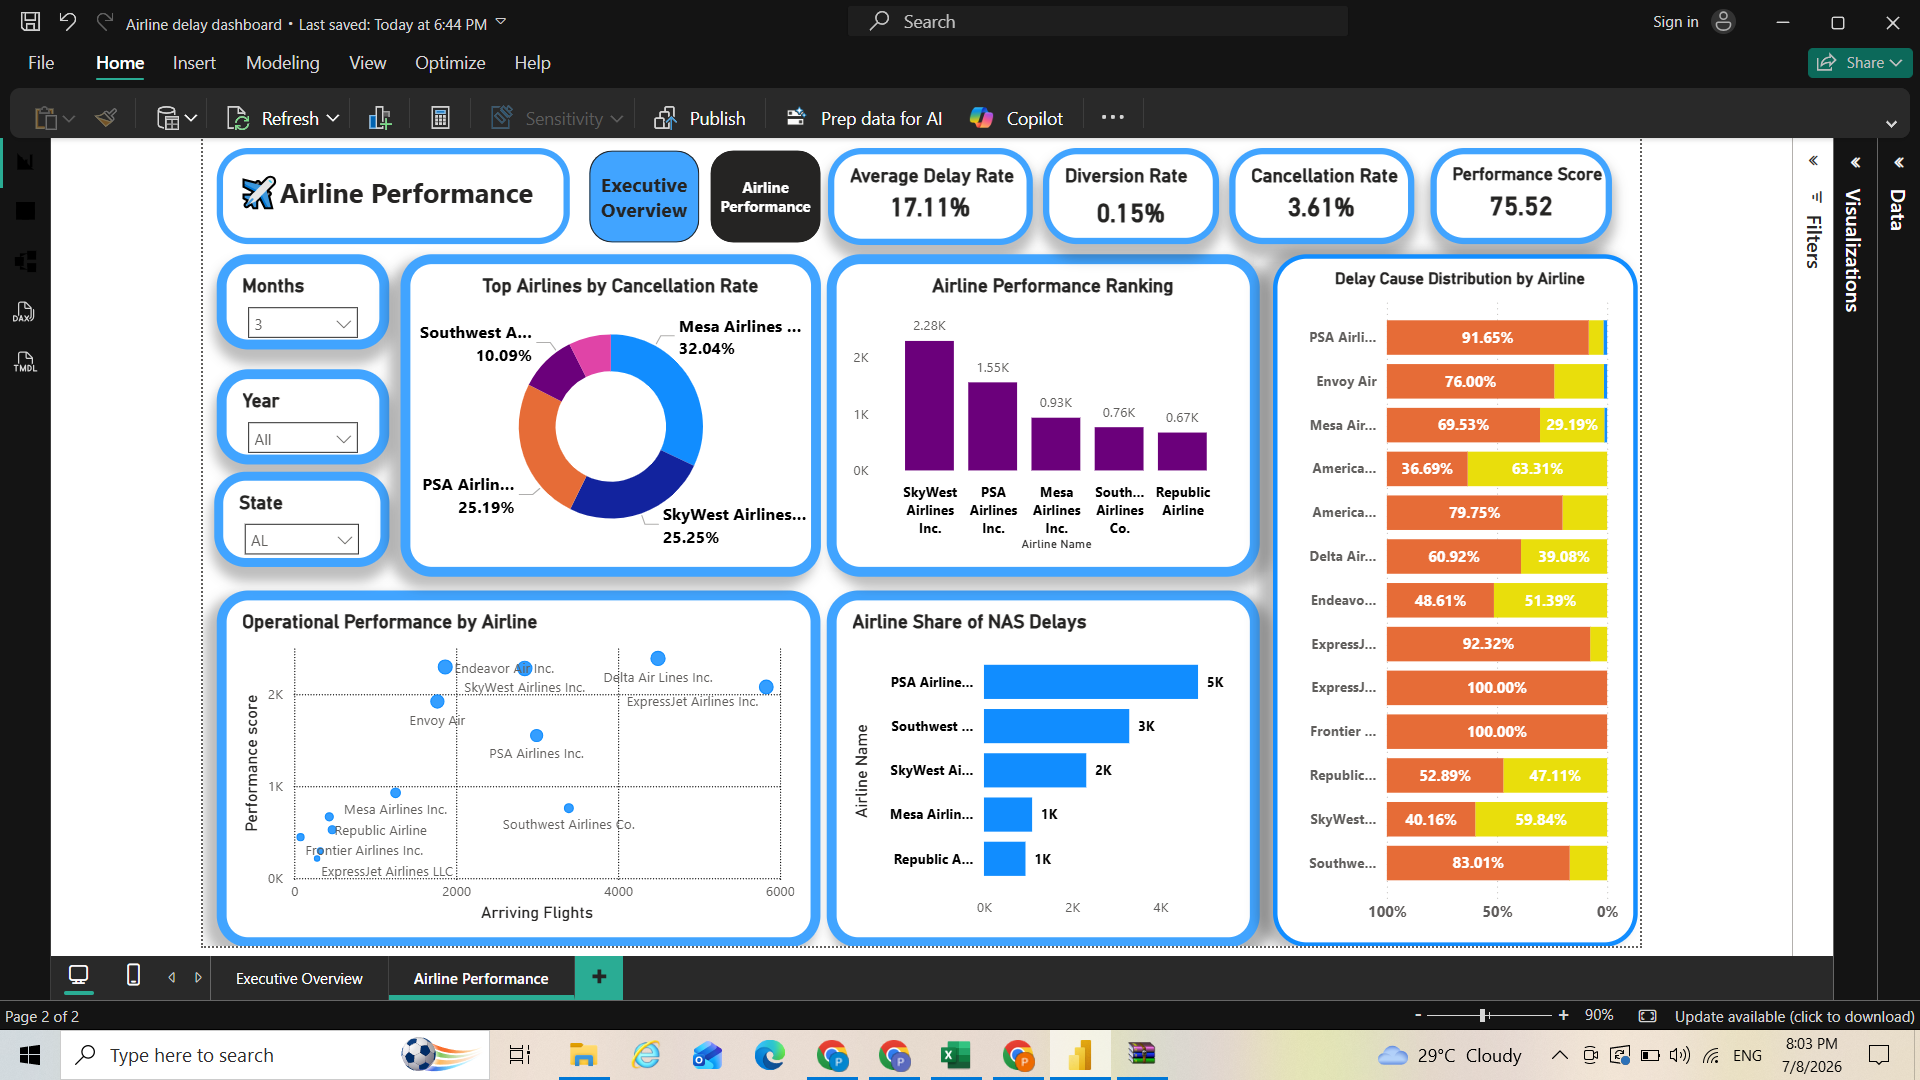

This screenshot's page, from the dashboard's own definition file:
{"tool":"powerbi","page":{"name":"Airline Performance","canvas":[1280,720],"ordinal":1},"visuals":[{"type":"scatterChart","title":"Operational Performance by Airline","fields":{"Category":["Airline_Delay_Cause_analysis.Airline Name"],"X":["Sum(Airline_Delay_Cause_analysis.number_of_arriving_flights)"],"Size":["CountNonNull(Airline_Delay_Cause_analysis.Airline Name)"],"Y":["Sum(Airline_Delay_Cause_analysis.performance_score)"],"Series":["Airline_Delay_Cause_analysis.month"]},"box":[12.3,402.5,537.4,317.8],"z":0},{"type":"slicer","title":"Months","fields":{"Values":["Airline_Delay_Cause_analysis.month"]},"box":[12.3,103.1,153.4,84.7],"z":1000},{"type":"slicer","title":"Year","fields":{"Values":["Airline_Delay_Cause_analysis.year"]},"box":[12.3,206.1,153.4,84.7],"z":2000},{"type":"textbox","box":[12.3,8.6,314.1,85.9],"z":3000},{"type":"slicer","title":"State","fields":{"Values":["Airline_Delay_Cause_analysis. state "]},"box":[9.8,296.9,155.8,84.7],"z":4000},{"type":"clusteredBarChart","title":"Airline Share of NAS Delays","fields":{"Category":["Airline_Delay_Cause_analysis.Airline Name"],"Y":["Sum(Airline_Delay_Cause_analysis.delay_attributed_to_the_nas)"]},"box":[555.8,402.5,385.3,317.8],"z":5000},{"type":"kpi","title":"Average Delay Rate ","fields":{"Indicator":["select","Airline_Delay_Cause_analysis.Average Delay Rate"],"TrendLine":["Airline_Delay_Cause_analysis.month"]},"box":[556.4,8.6,182.2,86.2],"z":6000},{"type":"kpi","title":"Performance Score","fields":{"Indicator":["select","Airline_Delay_Cause_analysis.Carrier Performance Score"],"TrendLine":["Airline_Delay_Cause_analysis.month"]},"box":[1093.3,8.6,162,85.9],"z":7000},{"type":"donutChart","title":"Top Airlines by Cancellation Rate","fields":{"Category":["Airline_Delay_Cause_analysis.Airline Name"],"Y":["Sum(Airline_Delay_Cause_analysis.cancellation_rate)"]},"box":[175.5,103.1,374.2,287.1],"z":8000},{"type":"clusteredColumnChart","title":"Airline Performance Ranking","fields":{"Category":["Airline_Delay_Cause_analysis.Airline Name"],"Y":["Sum(Airline_Delay_Cause_analysis.performance_score)"]},"box":[555.8,103.1,385.3,287.1],"z":9000},{"type":"kpi","title":"Diversion Rate","fields":{"Indicator":["Airline_Delay_Cause_analysis.Diversion Rate"],"TrendLine":["Airline_Delay_Cause_analysis.month"]},"box":[748.5,8.6,157.1,85.9],"z":10000},{"type":"kpi","title":"Cancellation Rate","fields":{"Indicator":["select","Airline_Delay_Cause_analysis.Cancellation Rate"],"TrendLine":["Airline_Delay_Cause_analysis.month"]},"box":[914.1,8.6,164.4,85.9],"z":11000},{"type":"hundredPercentStackedBarChart","title":"Delay Cause Distribution by Airline","fields":{"Y":["Sum(Airline_Delay_Cause_analysis.security_delay)","Sum(Airline_Delay_Cause_analysis.weather_delay)","Sum(Airline_Delay_Cause_analysis.delay_attributed_to_the_nas)"],"Category":["Airline_Delay_Cause_analysis.carrier_name"]},"box":[953.4,103.1,325.2,617.2],"z":12000},{"type":"pageNavigator","box":[343.6,11,206.1,82.2],"z":13000}]}

Visuals, with their boxes on the page's 1280x720 design canvas (x1, y1, x2, y2). These are canvas units, not pixel positions in the 1920x1080 screenshot, which may show the page scaled, cropped or inside an application window:
"Operational Performance by Airline" scatterChart: [12, 402, 550, 720]
"Months" slicer: [12, 103, 166, 188]
"Year" slicer: [12, 206, 166, 291]
textbox: [12, 9, 326, 94]
"State" slicer: [10, 297, 166, 382]
"Airline Share of NAS Delays" clusteredBarChart: [556, 402, 941, 720]
"Average Delay Rate " kpi: [556, 9, 739, 95]
"Performance Score" kpi: [1093, 9, 1255, 94]
"Top Airlines by Cancellation Rate" donutChart: [176, 103, 550, 390]
"Airline Performance Ranking" clusteredColumnChart: [556, 103, 941, 390]
"Diversion Rate" kpi: [748, 9, 906, 94]
"Cancellation Rate" kpi: [914, 9, 1078, 94]
"Delay Cause Distribution by Airline" hundredPercentStackedBarChart: [953, 103, 1279, 720]
pageNavigator: [344, 11, 550, 93]
